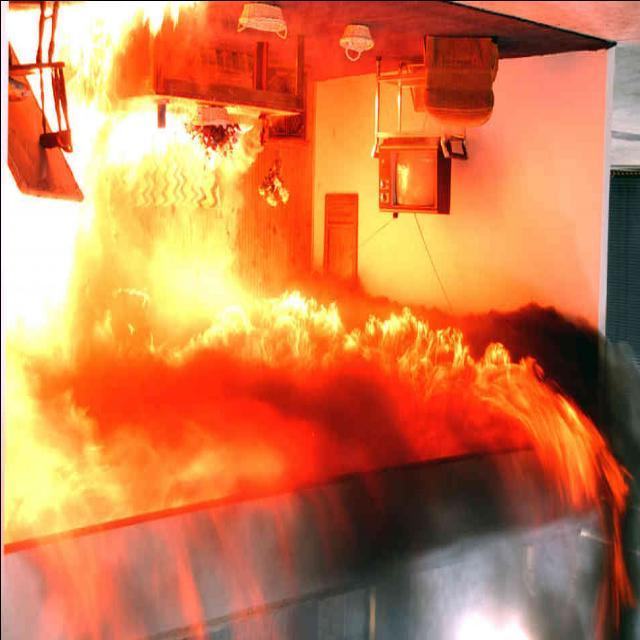Fire: (0, 282, 614, 543), (0, 8, 242, 280)
